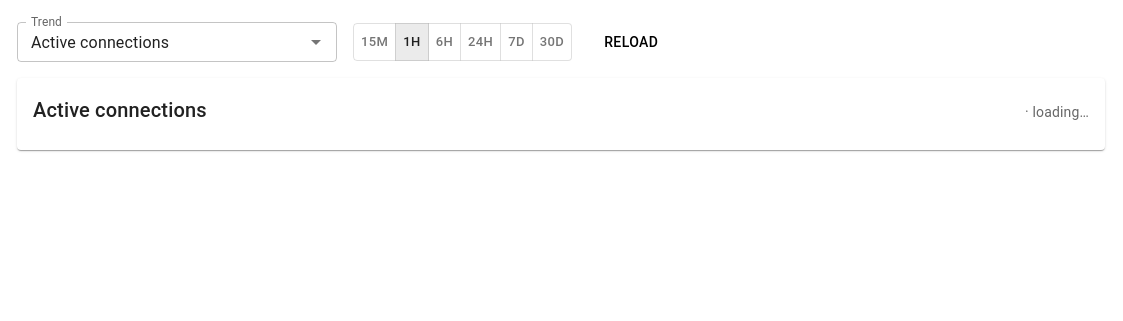
it: Trends › a slow, stale response does not overwrite a newer selection
Click the button "24h": x=481, y=42 top-left (460, 23), bottom-right (501, 61)
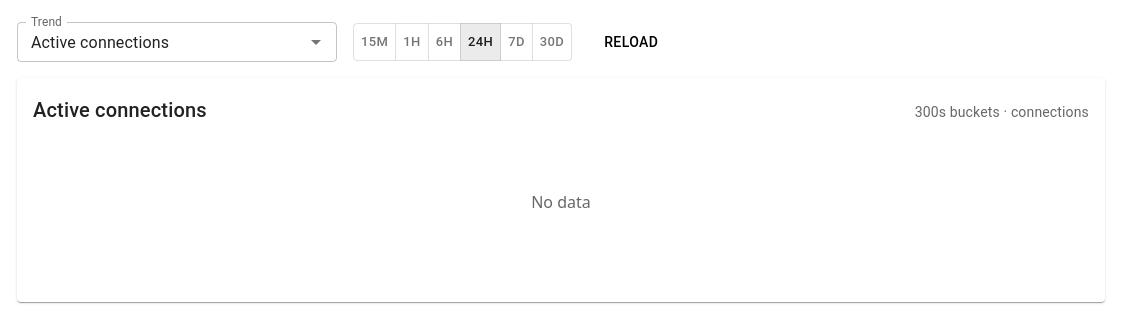
Expected: the text "300s buckets · connections" is shown, top-left (915, 102), bottom-right (1089, 122)
